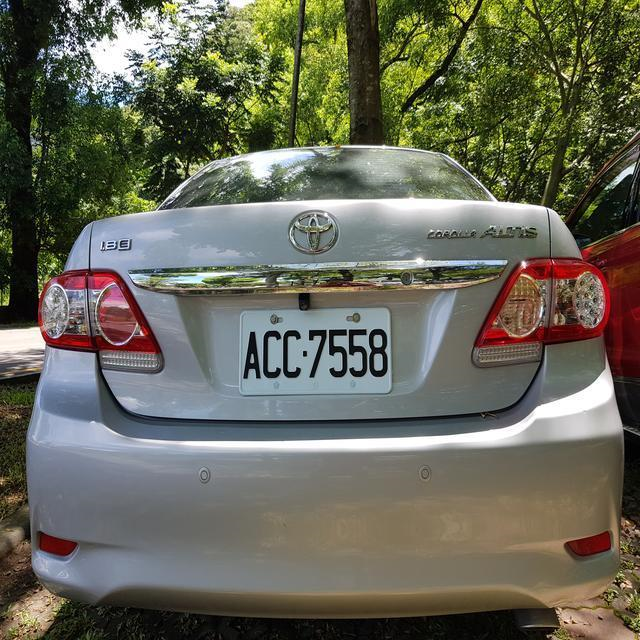license: (239, 311, 391, 395)
